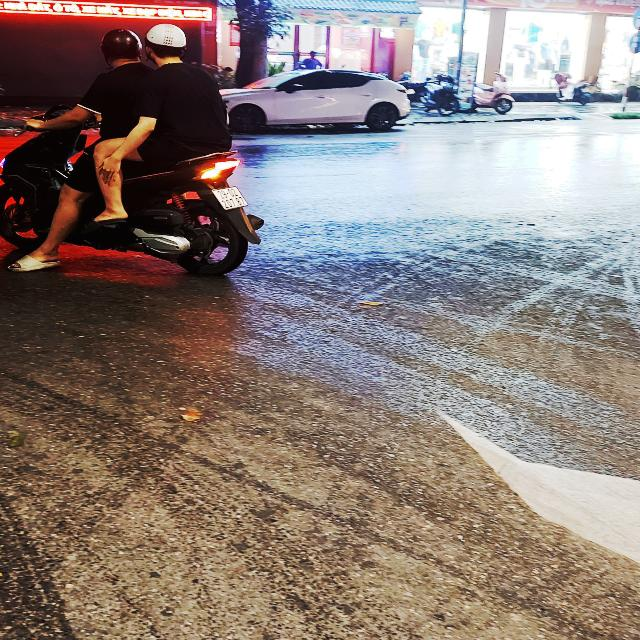license_plate: (211, 186, 251, 212)
